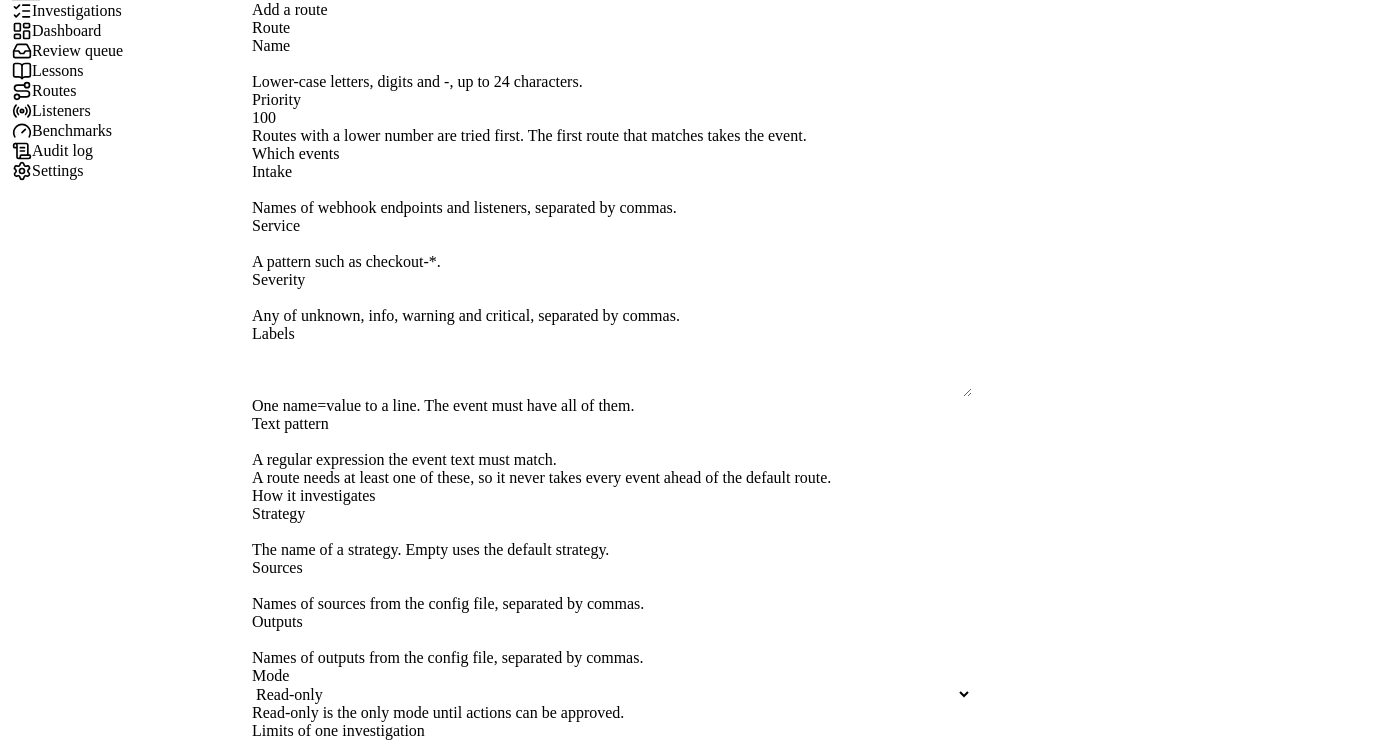
Scenario: the route form › shows each problem the server found under its field, a list item under its list, and the others at the top
Type "Search" into the field labelled "Name".
click(612, 64); type("Search")  # box [252,55,972,73]
(page scrolled)
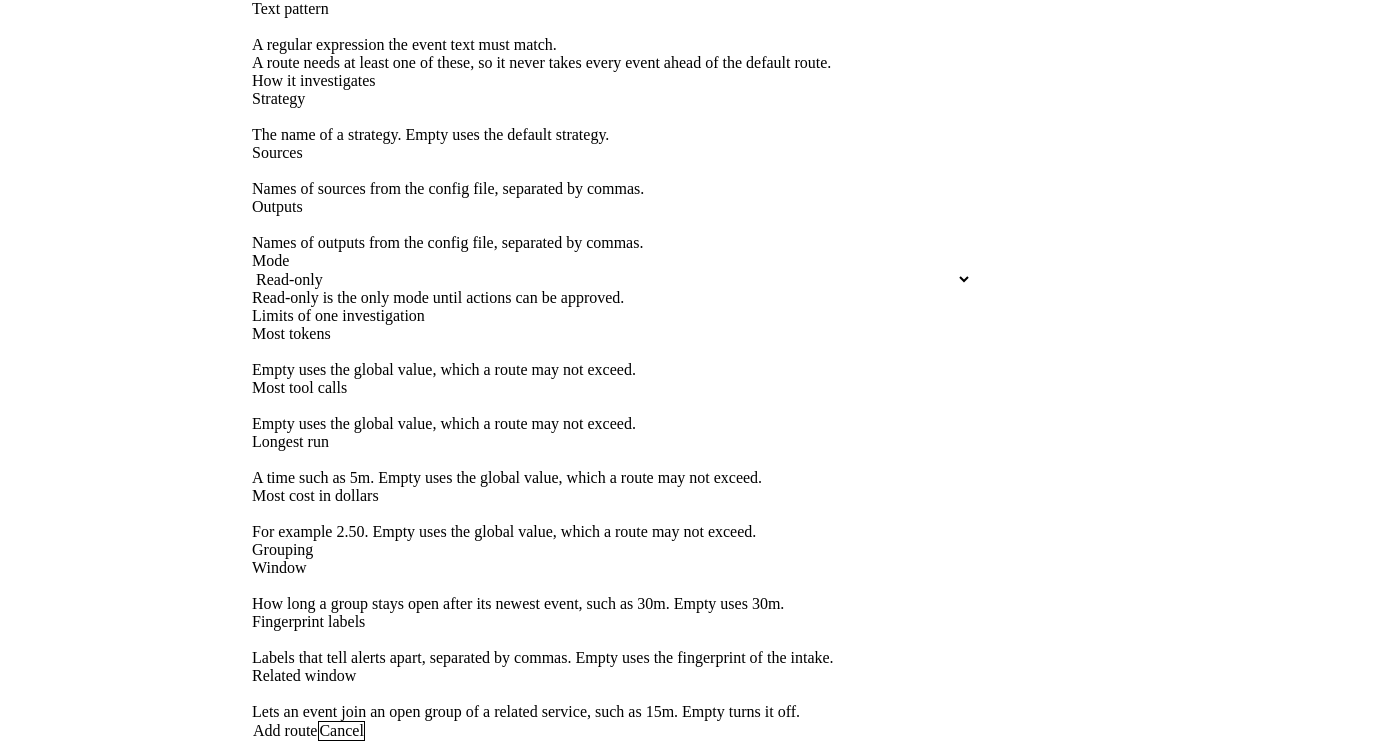
Click the button "Add route".
click(285, 731)  # box [252,721,318,740]
(page scrolled)
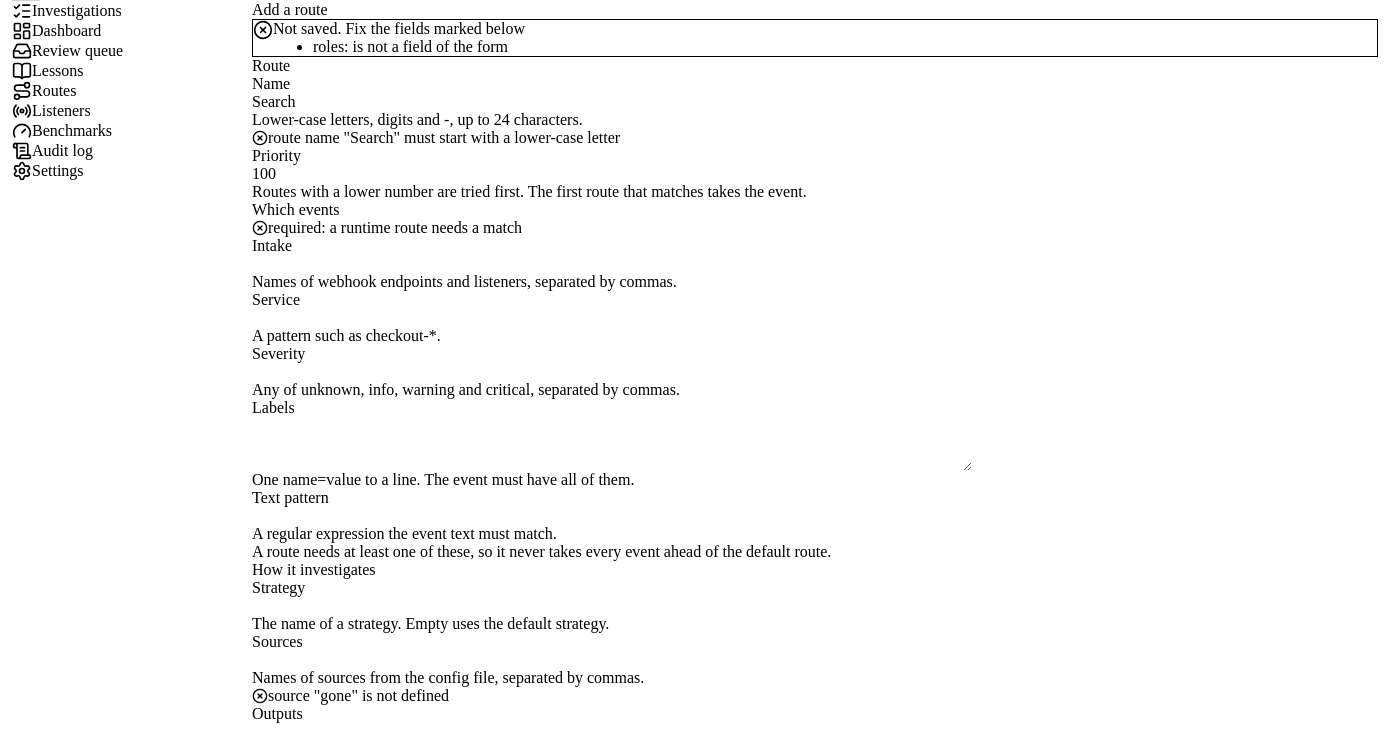
Expected: the text "required: a runtime route needs a match" is shown, [252,219,522,236]
Expected: the message shows "roles: is not a field of the form", [313,38,508,55]
